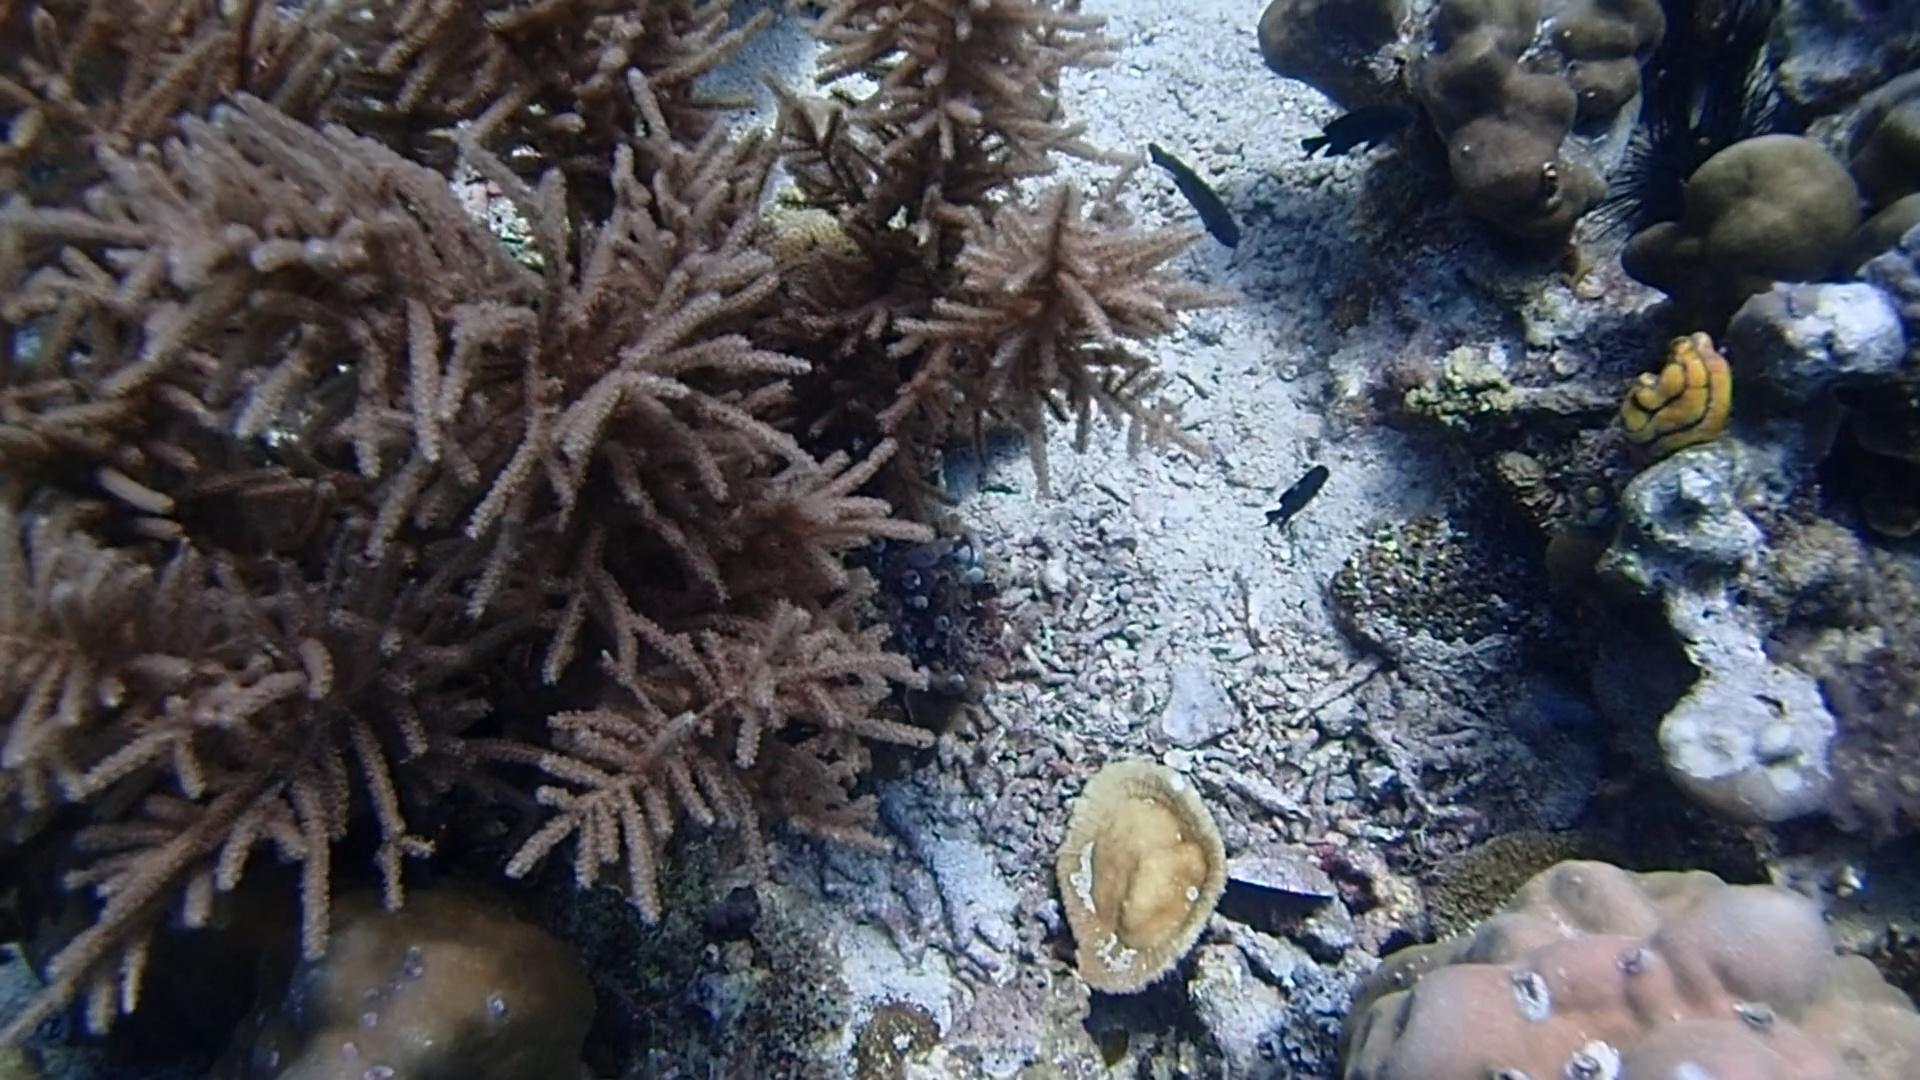Dark Fish: (1139, 131, 1244, 255), (1299, 100, 1418, 174), (1258, 456, 1336, 533)
